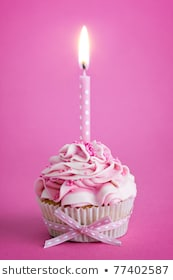Fire: (76, 23, 91, 69)
